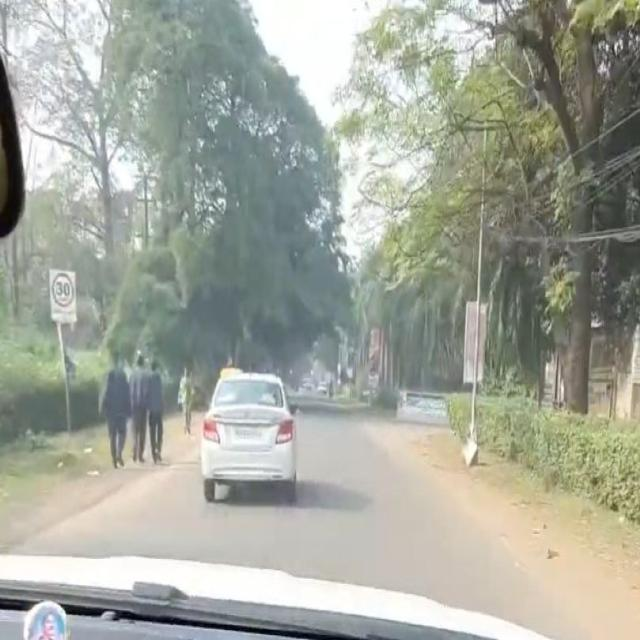speedlimit_30: (52, 275, 75, 309)
